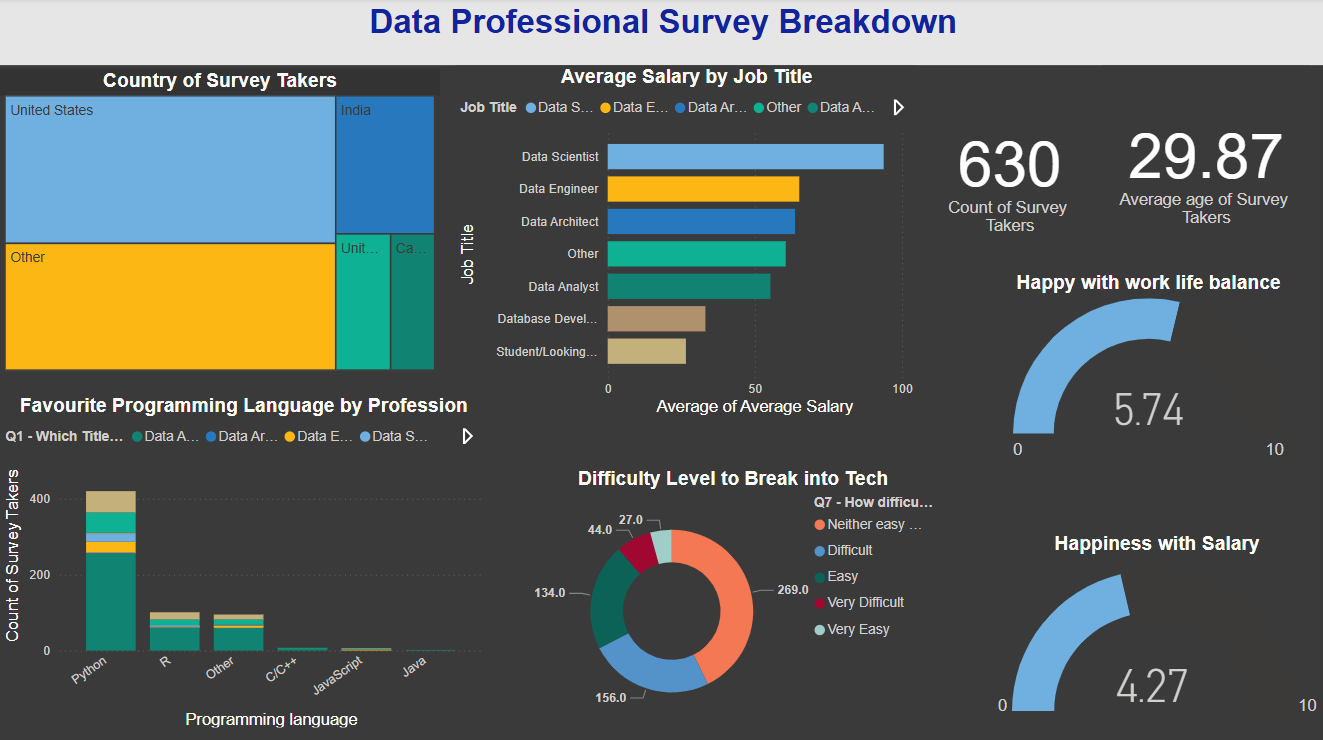

Layout of this report page (visuals, bound fields, positions):
{"tool":"powerbi","page":{"name":"Page 1","canvas":[1280,720],"ordinal":0},"visuals":[{"type":"textbox","box":[0,0,1280,65.1],"z":0},{"type":"card","fields":{"Values":["CountNonNull(Data Professional Survey.Unique ID)"]},"box":[886.7,80.8,176.1,167.7],"z":1000},{"type":"card","fields":{"Values":["Avg(Data Professional Survey.Q10 - Current Age)"]},"box":[1064.1,65.1,200.3,183.4],"z":2000},{"type":"barChart","title":"Average Salary by Job Title","fields":{"Category":["Data Professional Survey.Q1 - Which Title Best Fits your Current Role?.1"],"Y":["Avg(Data Professional Survey.Average Salary)"],"Series":["Data Professional Survey.Q1 - Which Title Best Fits your Current Role?.1"]},"box":[439.1,65.1,447.6,342.6],"z":3000},{"type":"columnChart","title":"Favourite Programming Language by Profession","fields":{"Category":["Data Professional Survey.Q5 - Favorite Programming Language.1"],"Y":["CountNonNull(Data Professional Survey.Unique ID)"],"Series":["Data Professional Survey.Q1 - Which Title Best Fits your Current Role?.1"]},"box":[0,382.4,470.5,326.9],"z":4000},{"type":"treemap","title":"Country of Survey Takers","fields":{"Values":["CountNonNull(Data Professional Survey.Q11 - Which Country do you live in?.1)"],"Group":["Data Professional Survey.Q11 - Which Country do you live in?.1"]},"box":[0,68.8,424.7,295.6],"z":5000},{"type":"gauge","title":"Happy with work life balance","fields":{"Y":["Avg(Data Professional Survey.Q6 - How Happy are you in your Current Position with the following? (Work/Life Balance))"],"MinValue":["Min(Data Professional Survey.Q6 - How Happy are you in your Current Position with the following? (Work/Life Balance))1"],"MaxValue":["Max(Data Professional Survey.Q6 - How Happy are you in your Current Position with the following? (Work/Life Balance))2"]},"box":[953,264,311,189],"z":5001},{"type":"gauge","title":"Happiness with Salary","fields":{"Y":["Avg(Data Professional Survey.Q6 - How Happy are you in your Current Position with the following? (Salary))"],"MinValue":["Min(Data Professional Survey.Q6 - How Happy are you in your Current Position with the following? (Salary))1"],"MaxValue":["Max(Data Professional Survey.Q6 - How Happy are you in your Current Position with the following? (Salary))2"]},"box":[952.6,516.6,327.6,192.8],"z":5002},{"type":"donutChart","title":"Difficulty Level to Break into Tech","fields":{"Category":["Data Professional Survey.Q7 - How difficult was it for you to break into Data?"],"Y":["CountNonNull(Data Professional Survey.Unique ID)"]},"box":[506.7,453.6,401.7,255.8],"z":5003}]}

Visuals, with their boxes in screenshot pixels (x1, y1, x2, y2), scaled from the page's 1280x720 canvas onto the 1323x740 screenshot:
textbox: Rect(0, 0, 1322, 67)
card - CountNonNull(Data Professional Survey.Unique ID): Rect(916, 83, 1099, 255)
card - Avg(Data Professional Survey.Q10 - Current Age): Rect(1100, 67, 1307, 255)
"Average Salary by Job Title" barChart: Rect(454, 67, 916, 419)
"Favourite Programming Language by Profession" columnChart: Rect(0, 393, 486, 729)
"Country of Survey Takers" treemap: Rect(0, 71, 439, 375)
"Happy with work life balance" gauge: Rect(985, 271, 1306, 466)
"Happiness with Salary" gauge: Rect(985, 531, 1322, 729)
"Difficulty Level to Break into Tech" donutChart: Rect(524, 466, 939, 729)
